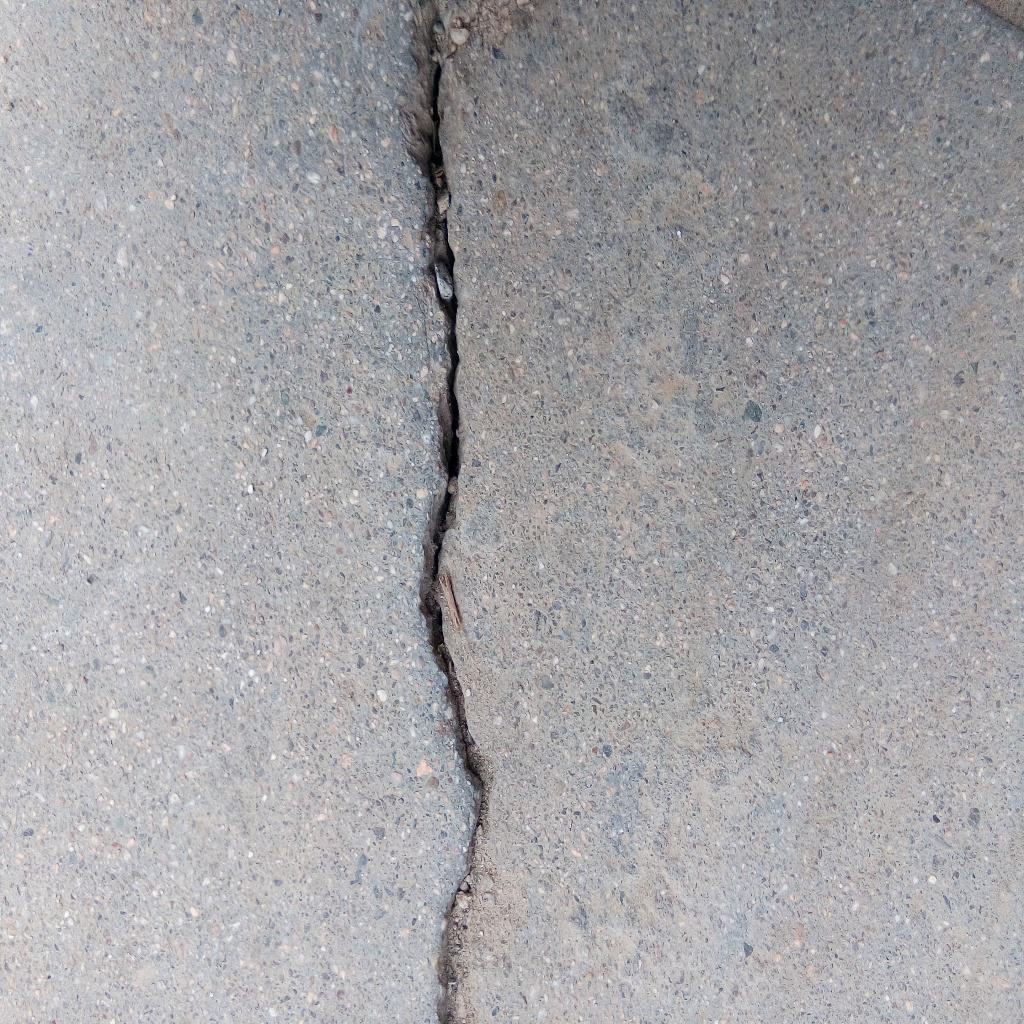Crack: (401, 1, 488, 1024)
